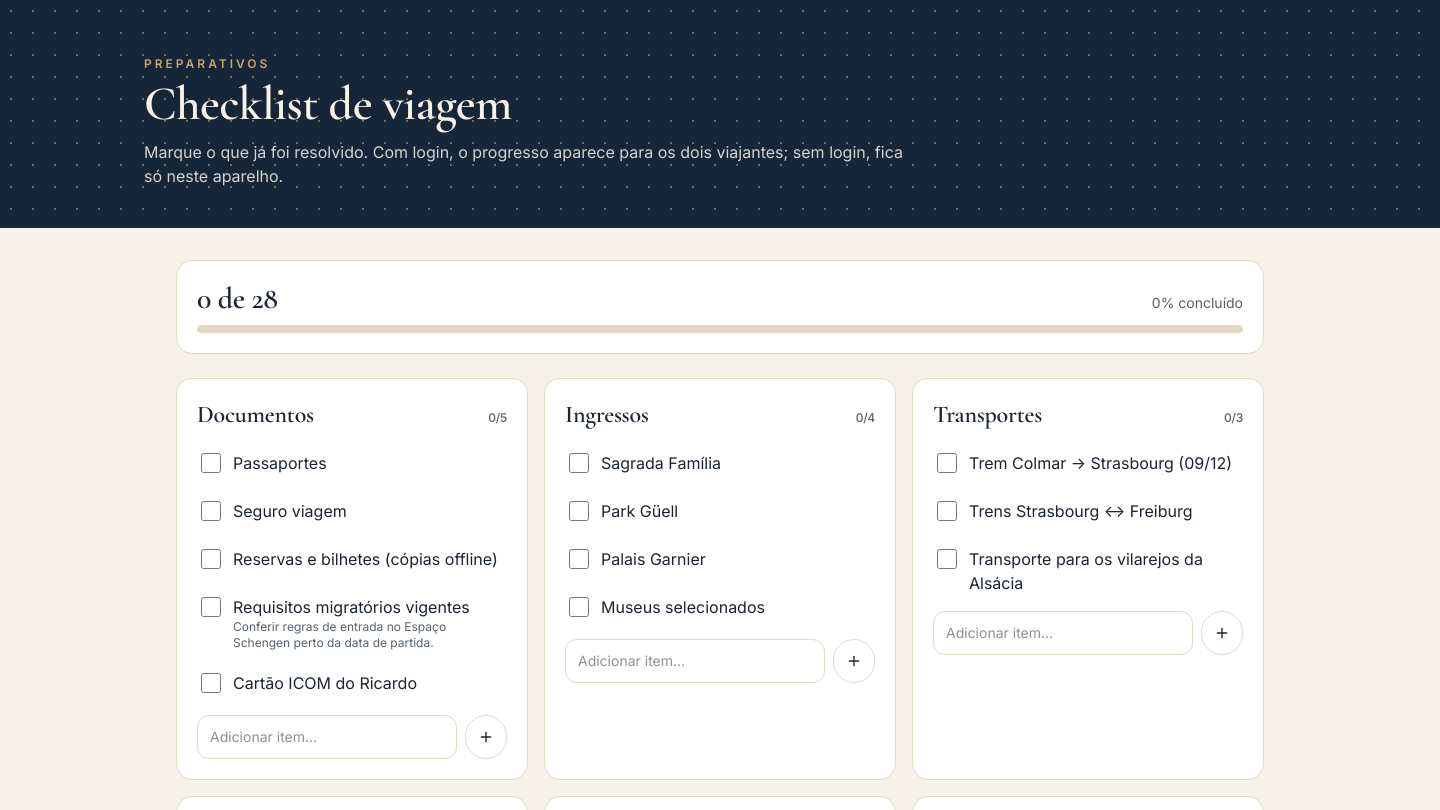
Test case: interface › checklist marca itens e persiste no LocalStorage
The image size is (1440, 810).
Click the checkbox labelled "Passaportes": (211, 463) 201,453 -> 221,473
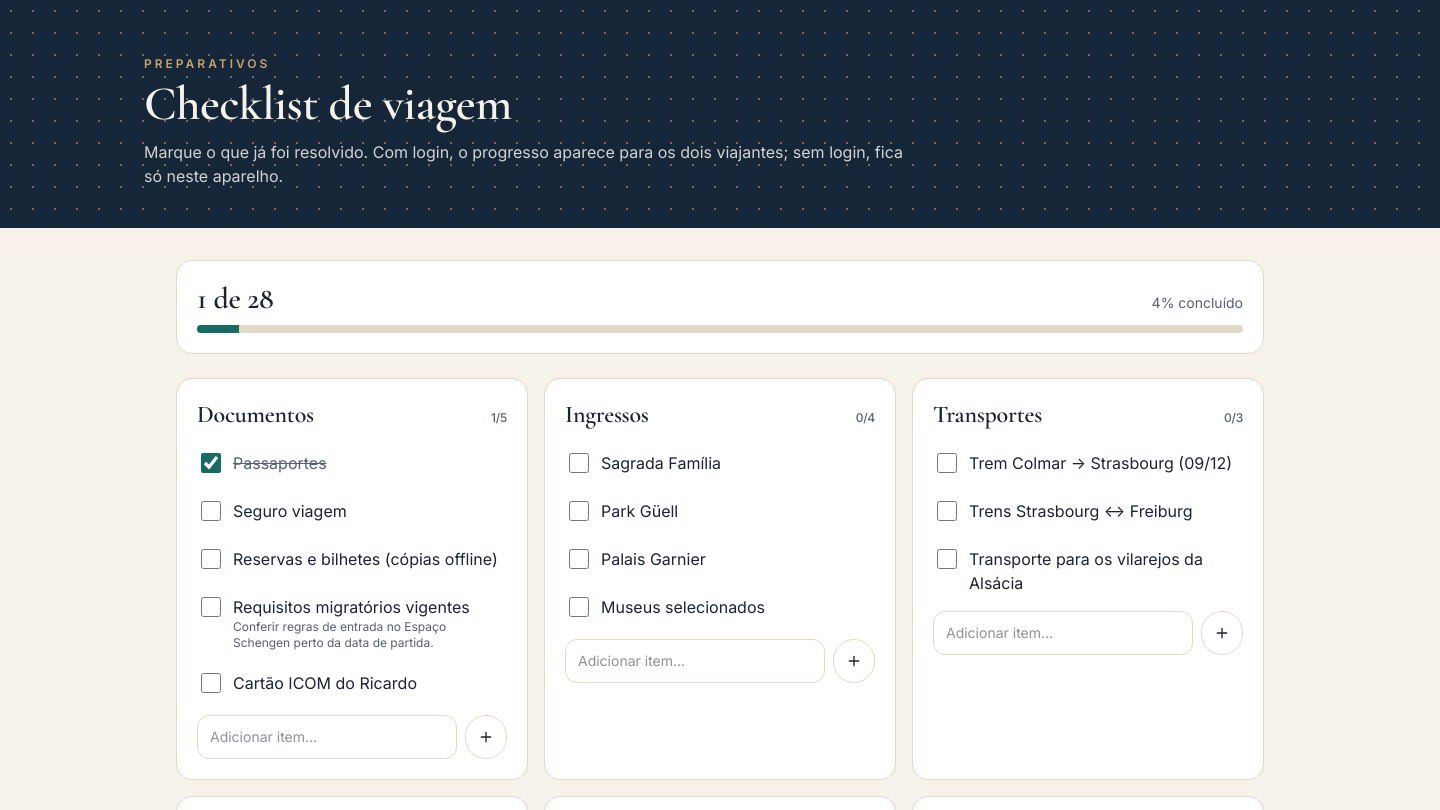
Expected: the checkbox labelled "Passaportes" is checked, 201,453 -> 221,473
